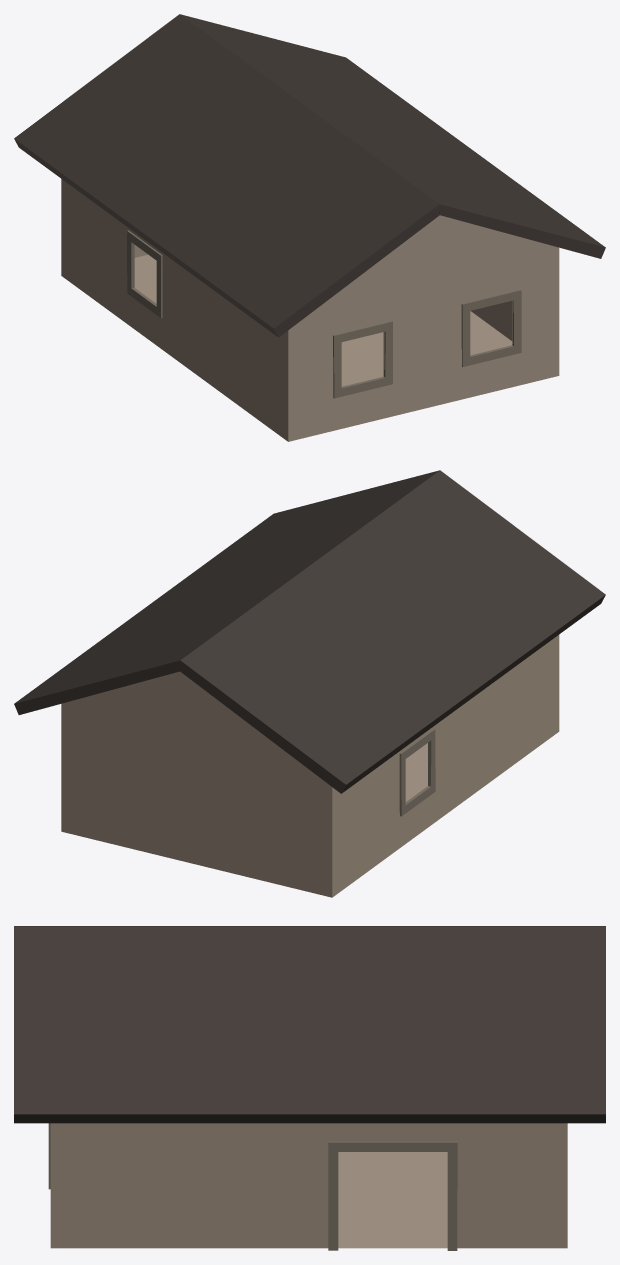
File: house1.fbx
3 renders of one model, top to bottom at view 1: azimuth 30°, elevation 25°; view 2: azimuth 150°, elevation 25°; view 3: azimuth 270°, elevation 25°, orthographic. The views are drawn at different scales.
Parts seen in each view (by area): view 1: Cube.015, Cube.014, Cube.016; view 2: Cube.015, Cube.014, Cube.016; view 3: Cube.016, Cube.014, Cube.021, Cube.022, Cube.020, Cube.015.
Part boxes in pixels (x1,y1,x2,y2): Cube.015: (14, 14, 439, 337); Cube.014: (61, 179, 559, 441); Cube.016: (180, 14, 605, 258); Cube.015: (180, 470, 605, 793); Cube.014: (61, 635, 559, 897); Cube.016: (14, 470, 439, 714); Cube.016: (14, 926, 605, 1123); Cube.014: (50, 1123, 567, 1248); Cube.021: (328, 1141, 457, 1151); Cube.022: (328, 1142, 338, 1250); Cube.020: (447, 1143, 457, 1250); Cube.015: (14, 926, 605, 926).
Bounding box in the file's own units: 4288 × 2686 × 5808.
